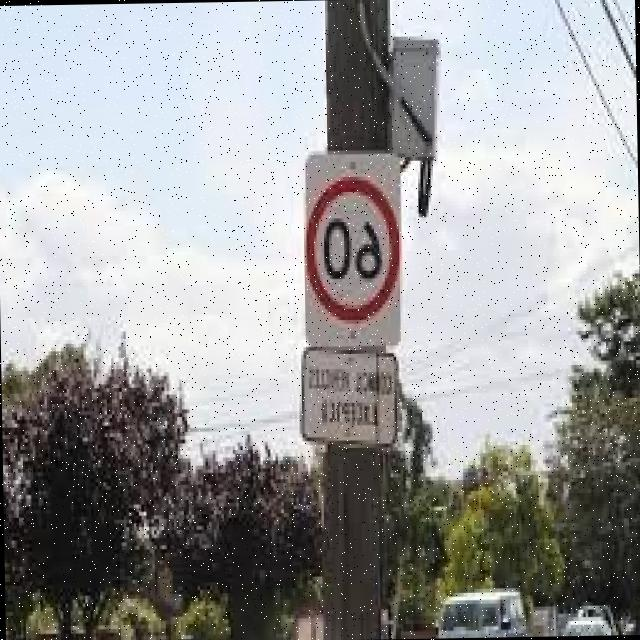speed_limit_60: (298, 170, 402, 321)
